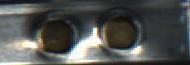joints: (24, 14, 82, 60), (92, 5, 146, 53)
